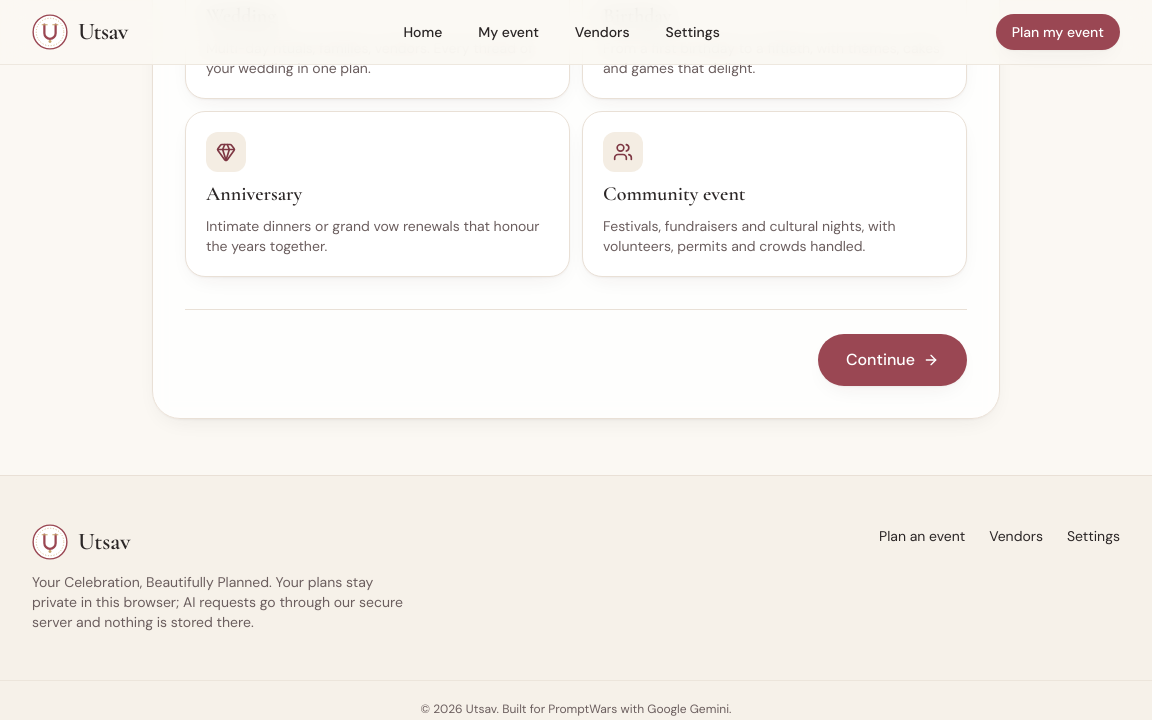
PlanWizardPage › blocks progress and announces errors when a step is invalid
(page scrolled)
Click the button "Continue". click: coordinates (892, 360)
box: [818,334,967,386]
(page scrolled)
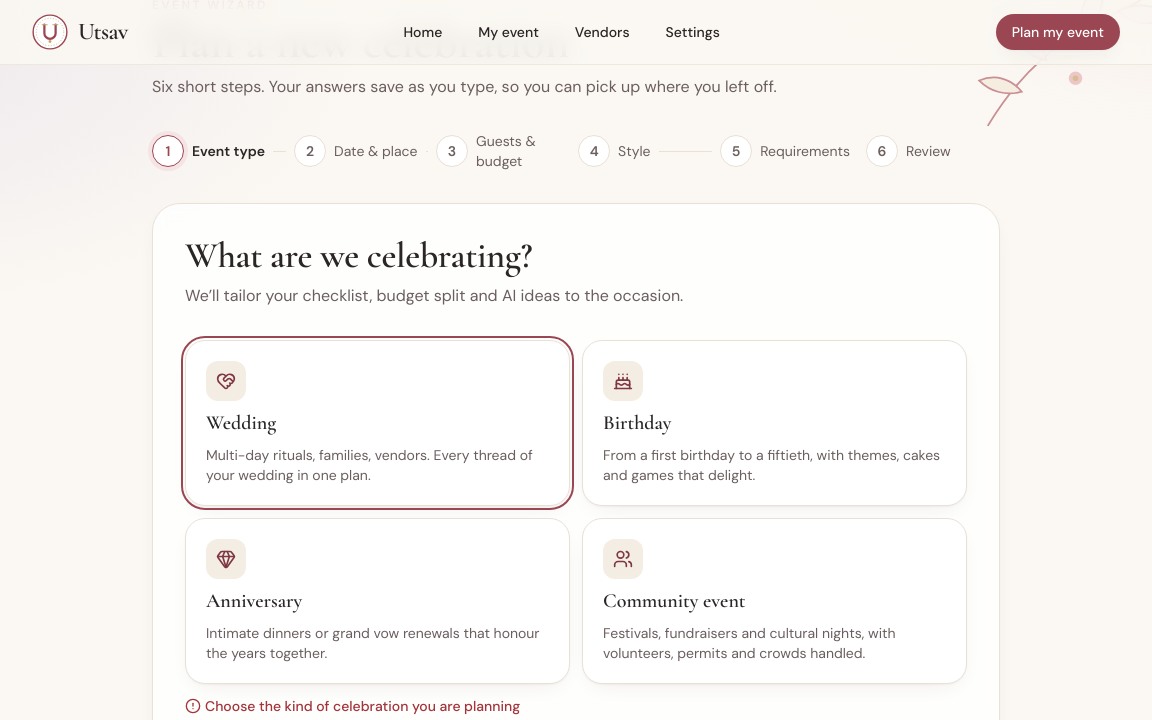
Expected: the heading "What are we celebrating?" is shown, [185,234,532,277]
Now the message reads "Choose the kind of celebration you are planning", box [205,697,520,715]
